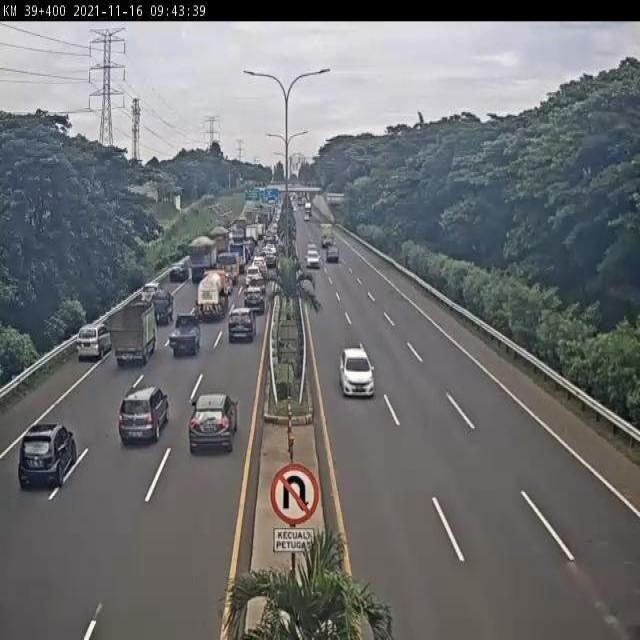ARABA: (15, 419, 80, 492), (116, 384, 171, 448), (188, 391, 239, 457), (339, 345, 375, 400), (74, 320, 113, 365), (167, 315, 201, 360), (224, 306, 258, 346), (150, 291, 175, 324), (242, 285, 267, 316), (141, 281, 163, 307), (168, 263, 191, 285), (244, 263, 264, 285), (248, 275, 269, 293), (304, 249, 321, 271), (252, 253, 267, 272), (325, 243, 338, 264), (264, 251, 278, 268)
KAMYONET: (102, 305, 155, 372), (195, 269, 232, 324), (185, 235, 219, 285), (215, 249, 242, 287), (207, 225, 229, 258)
